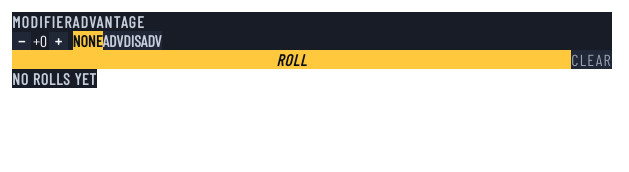
DiceRoller › clears the history via the Clear button
This screenshot has width=629, height=172.
Expected: the button with aria-label "Clear roll history" is disabled, [571,50,612,69]
Click the button "Roll".
click(292, 60)  # box [12,50,571,69]
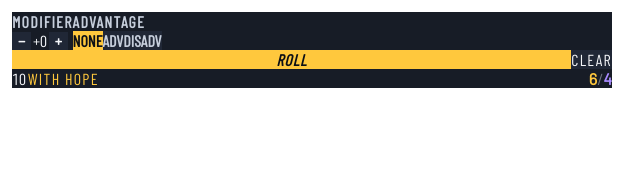
Now the number of list items with class "dice-roller__log-row" is 1, box [12,69,612,88]
Now the button with aria-label "Clear roll history" is enabled
Click the button with aria-label "Clear roll history".
click(592, 60)  # box [571,50,612,69]
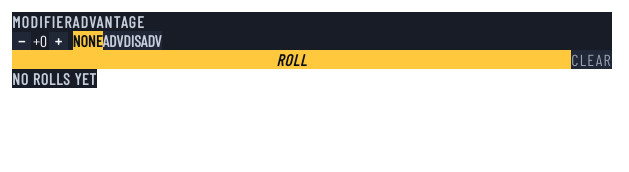
Now no list items with class "dice-roller__log-row" are shown
Now the text "No rolls yet" is shown, box [12,69,97,88]
